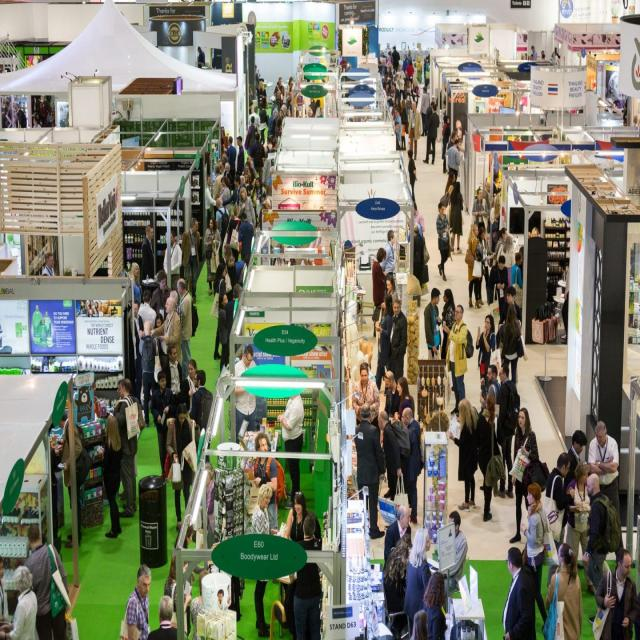body: (203, 117, 282, 229), (578, 471, 623, 625), (515, 224, 569, 342), (378, 45, 430, 155), (22, 524, 70, 640), (350, 401, 388, 542), (57, 411, 94, 550), (587, 420, 624, 557), (540, 452, 576, 589), (164, 402, 201, 532), (591, 547, 640, 640), (508, 406, 540, 545), (171, 521, 209, 638), (519, 483, 548, 631), (541, 541, 583, 639), (250, 482, 276, 638), (566, 461, 596, 596), (283, 491, 310, 636), (447, 397, 481, 512), (293, 512, 323, 640), (476, 394, 506, 522), (115, 378, 141, 519), (495, 361, 521, 499), (248, 73, 324, 118), (501, 546, 537, 640), (403, 527, 433, 639), (382, 532, 413, 640), (113, 378, 140, 501), (277, 393, 305, 511), (0, 563, 42, 639), (377, 409, 411, 502), (150, 370, 177, 481), (442, 304, 468, 419), (101, 414, 123, 540), (436, 75, 468, 161), (401, 407, 424, 526), (253, 432, 279, 537), (163, 546, 193, 636), (138, 319, 162, 429), (442, 510, 468, 611), (233, 343, 258, 446), (188, 369, 214, 465), (120, 563, 152, 640), (149, 296, 183, 367), (351, 362, 381, 439), (374, 293, 396, 392), (0, 94, 56, 131), (174, 277, 193, 381), (605, 69, 639, 127), (498, 302, 522, 384), (127, 299, 145, 405), (180, 216, 201, 304), (388, 297, 408, 386), (383, 503, 413, 562), (421, 570, 446, 640), (210, 261, 227, 361), (562, 428, 588, 492), (189, 568, 211, 640), (464, 223, 482, 311), (486, 255, 508, 326), (225, 284, 243, 368), (412, 224, 430, 308), (203, 217, 222, 295), (225, 203, 243, 284), (476, 313, 498, 379), (423, 286, 443, 358), (169, 288, 184, 384), (439, 288, 456, 372), (477, 226, 495, 305), (483, 172, 503, 242), (147, 594, 177, 640), (149, 269, 174, 323), (162, 344, 184, 405), (48, 437, 61, 540), (436, 201, 452, 283), (162, 229, 183, 291), (178, 358, 200, 414), (443, 170, 457, 256), (479, 364, 501, 418), (509, 251, 524, 330), (421, 104, 440, 166), (497, 285, 523, 330), (219, 242, 237, 305), (496, 232, 516, 288), (449, 181, 464, 255), (379, 229, 396, 294), (406, 100, 424, 160), (372, 247, 389, 310), (237, 211, 255, 269), (394, 375, 416, 422), (218, 292, 230, 376), (383, 369, 402, 422), (471, 187, 489, 239), (215, 196, 230, 258), (140, 223, 156, 280), (136, 289, 158, 330), (237, 186, 256, 231), (524, 44, 560, 66), (489, 194, 502, 254), (406, 148, 418, 212), (444, 139, 461, 183), (269, 241, 298, 266), (380, 274, 400, 310), (407, 200, 426, 237), (408, 609, 429, 639), (425, 100, 436, 155), (0, 557, 9, 622), (419, 85, 430, 138), (129, 262, 143, 302), (493, 227, 508, 264), (89, 378, 102, 418), (632, 586, 640, 639), (40, 251, 56, 276), (446, 131, 459, 152), (340, 56, 350, 82), (196, 45, 206, 68), (152, 312, 164, 327), (44, 94, 52, 103)
